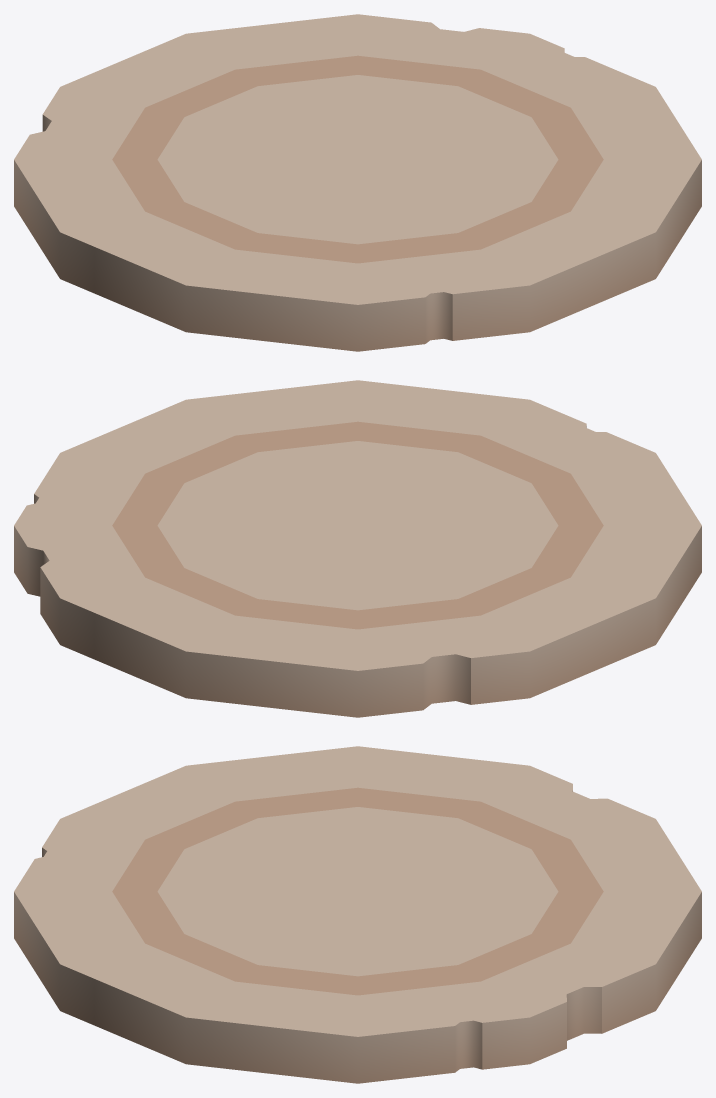
The model's file is cutting-board-round.glb.
The picture shows the model from 3 angles, top to bottom: view 1: azimuth 30°, elevation 25°; view 2: azimuth 150°, elevation 25°; view 3: azimuth 270°, elevation 25°; orthographic projection.
Visible parts, largest first — view 1: cutting-board-round; view 2: cutting-board-round; view 3: cutting-board-round.
Part boxes in pixels (x1=…): cutting-board-round: x1=14, y1=14, x2=701, y2=351; cutting-board-round: x1=14, y1=380, x2=701, y2=717; cutting-board-round: x1=14, y1=746, x2=701, y2=1083.
Size of the model in its own units: 0.8 by 0.06 by 0.8.
